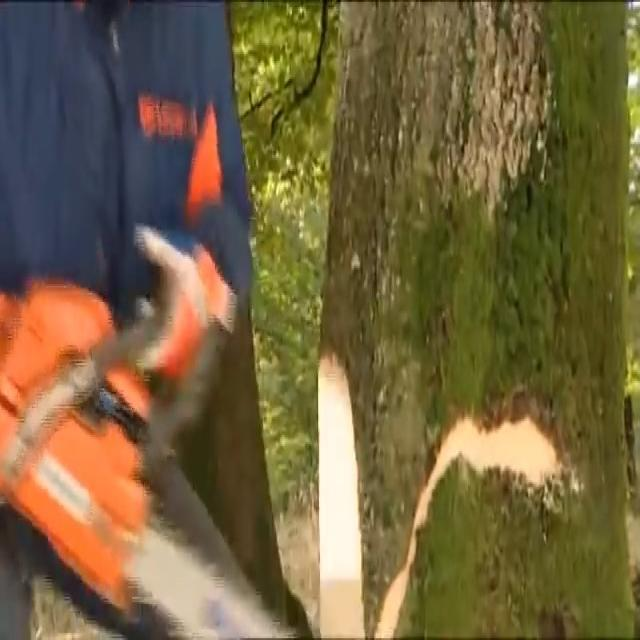Chainsaw: (0, 269, 316, 640)
